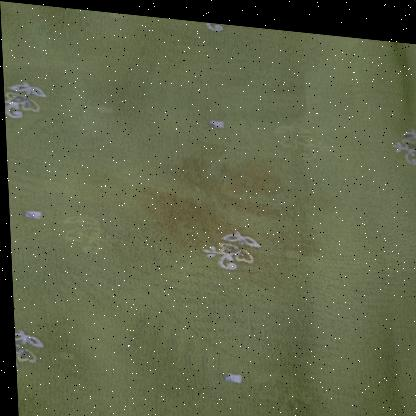spot: (119, 170, 318, 269), (168, 137, 315, 221)
